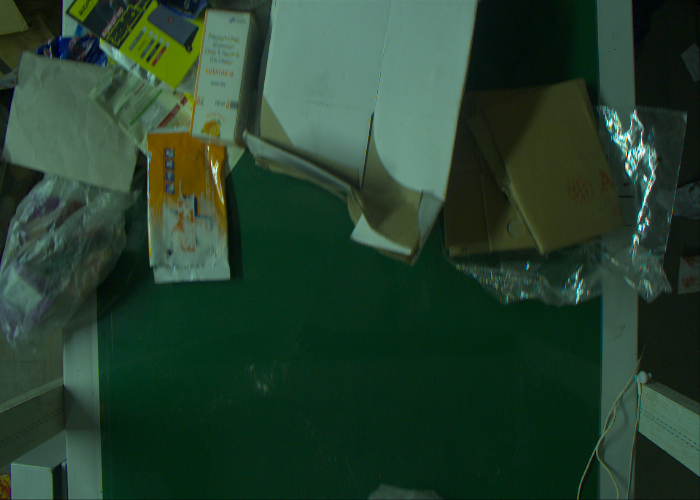cardboard: (242, 1, 477, 269), (447, 68, 624, 255), (193, 11, 256, 146)
ldpe_wrapper: (142, 126, 226, 287)
paper: (10, 49, 140, 198)
